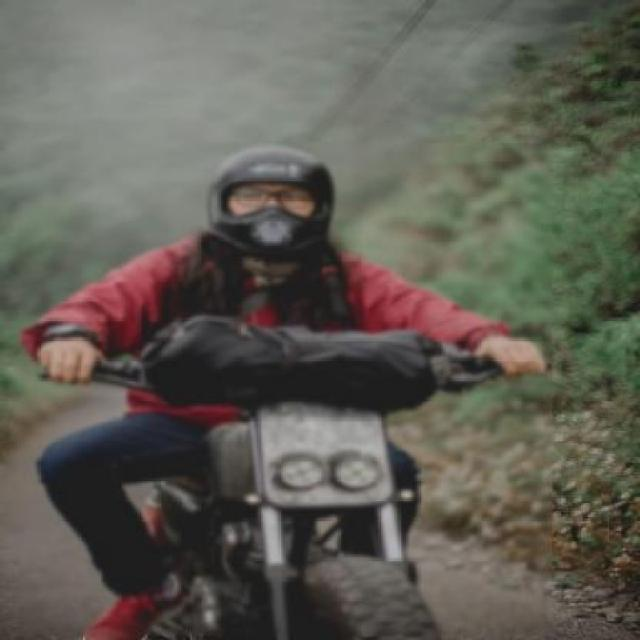helmet: (186, 135, 339, 281)
motorcycle: (0, 118, 555, 640)
